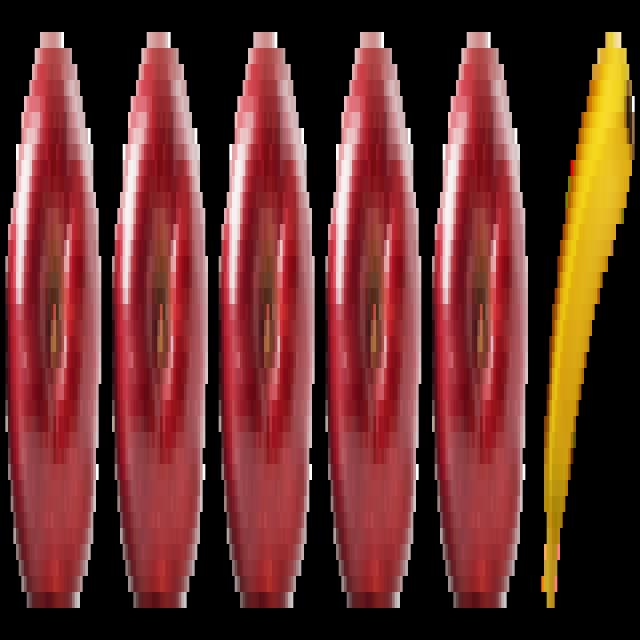apple: (109, 16, 210, 621), (217, 16, 317, 627), (432, 16, 530, 625), (4, 16, 102, 618), (325, 22, 422, 622)
bananas: (540, 22, 634, 620)
